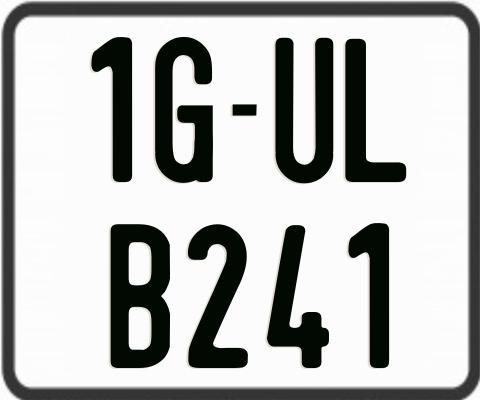1: (91, 36, 138, 184), (345, 223, 387, 369)
2: (185, 224, 245, 371)
4: (266, 222, 334, 367)
B: (110, 221, 174, 367)
G: (155, 37, 218, 187)
L: (342, 39, 407, 182)
U: (273, 38, 333, 188)
